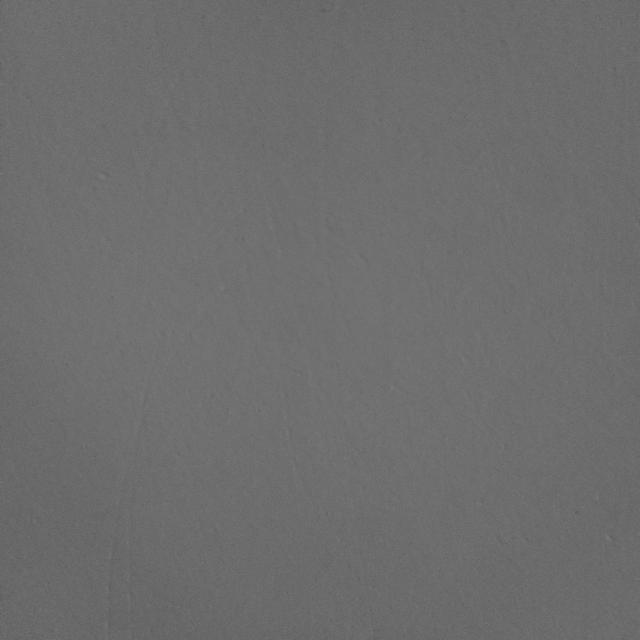rough and patchy surface: (10, 7, 636, 626)
